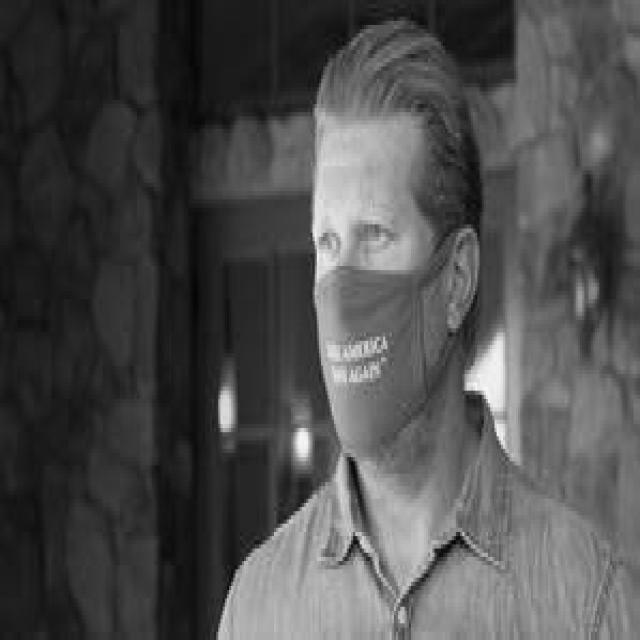fake: (305, 259, 469, 465)
real: (309, 111, 459, 465)
